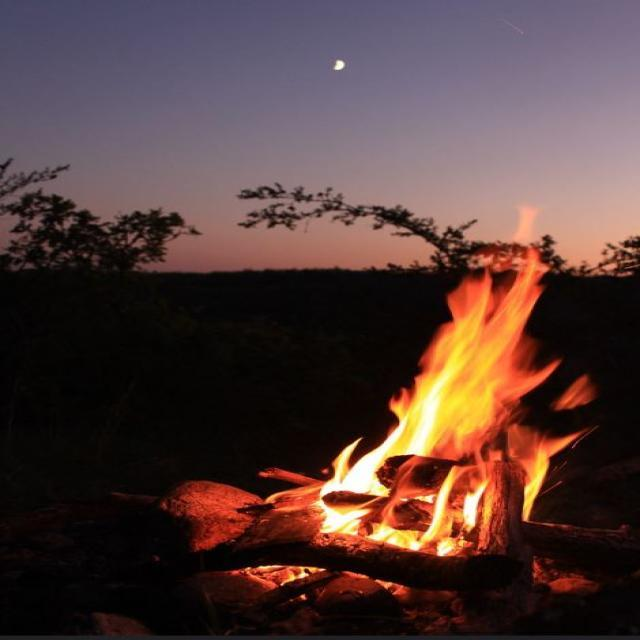Fire: (316, 211, 598, 531)
